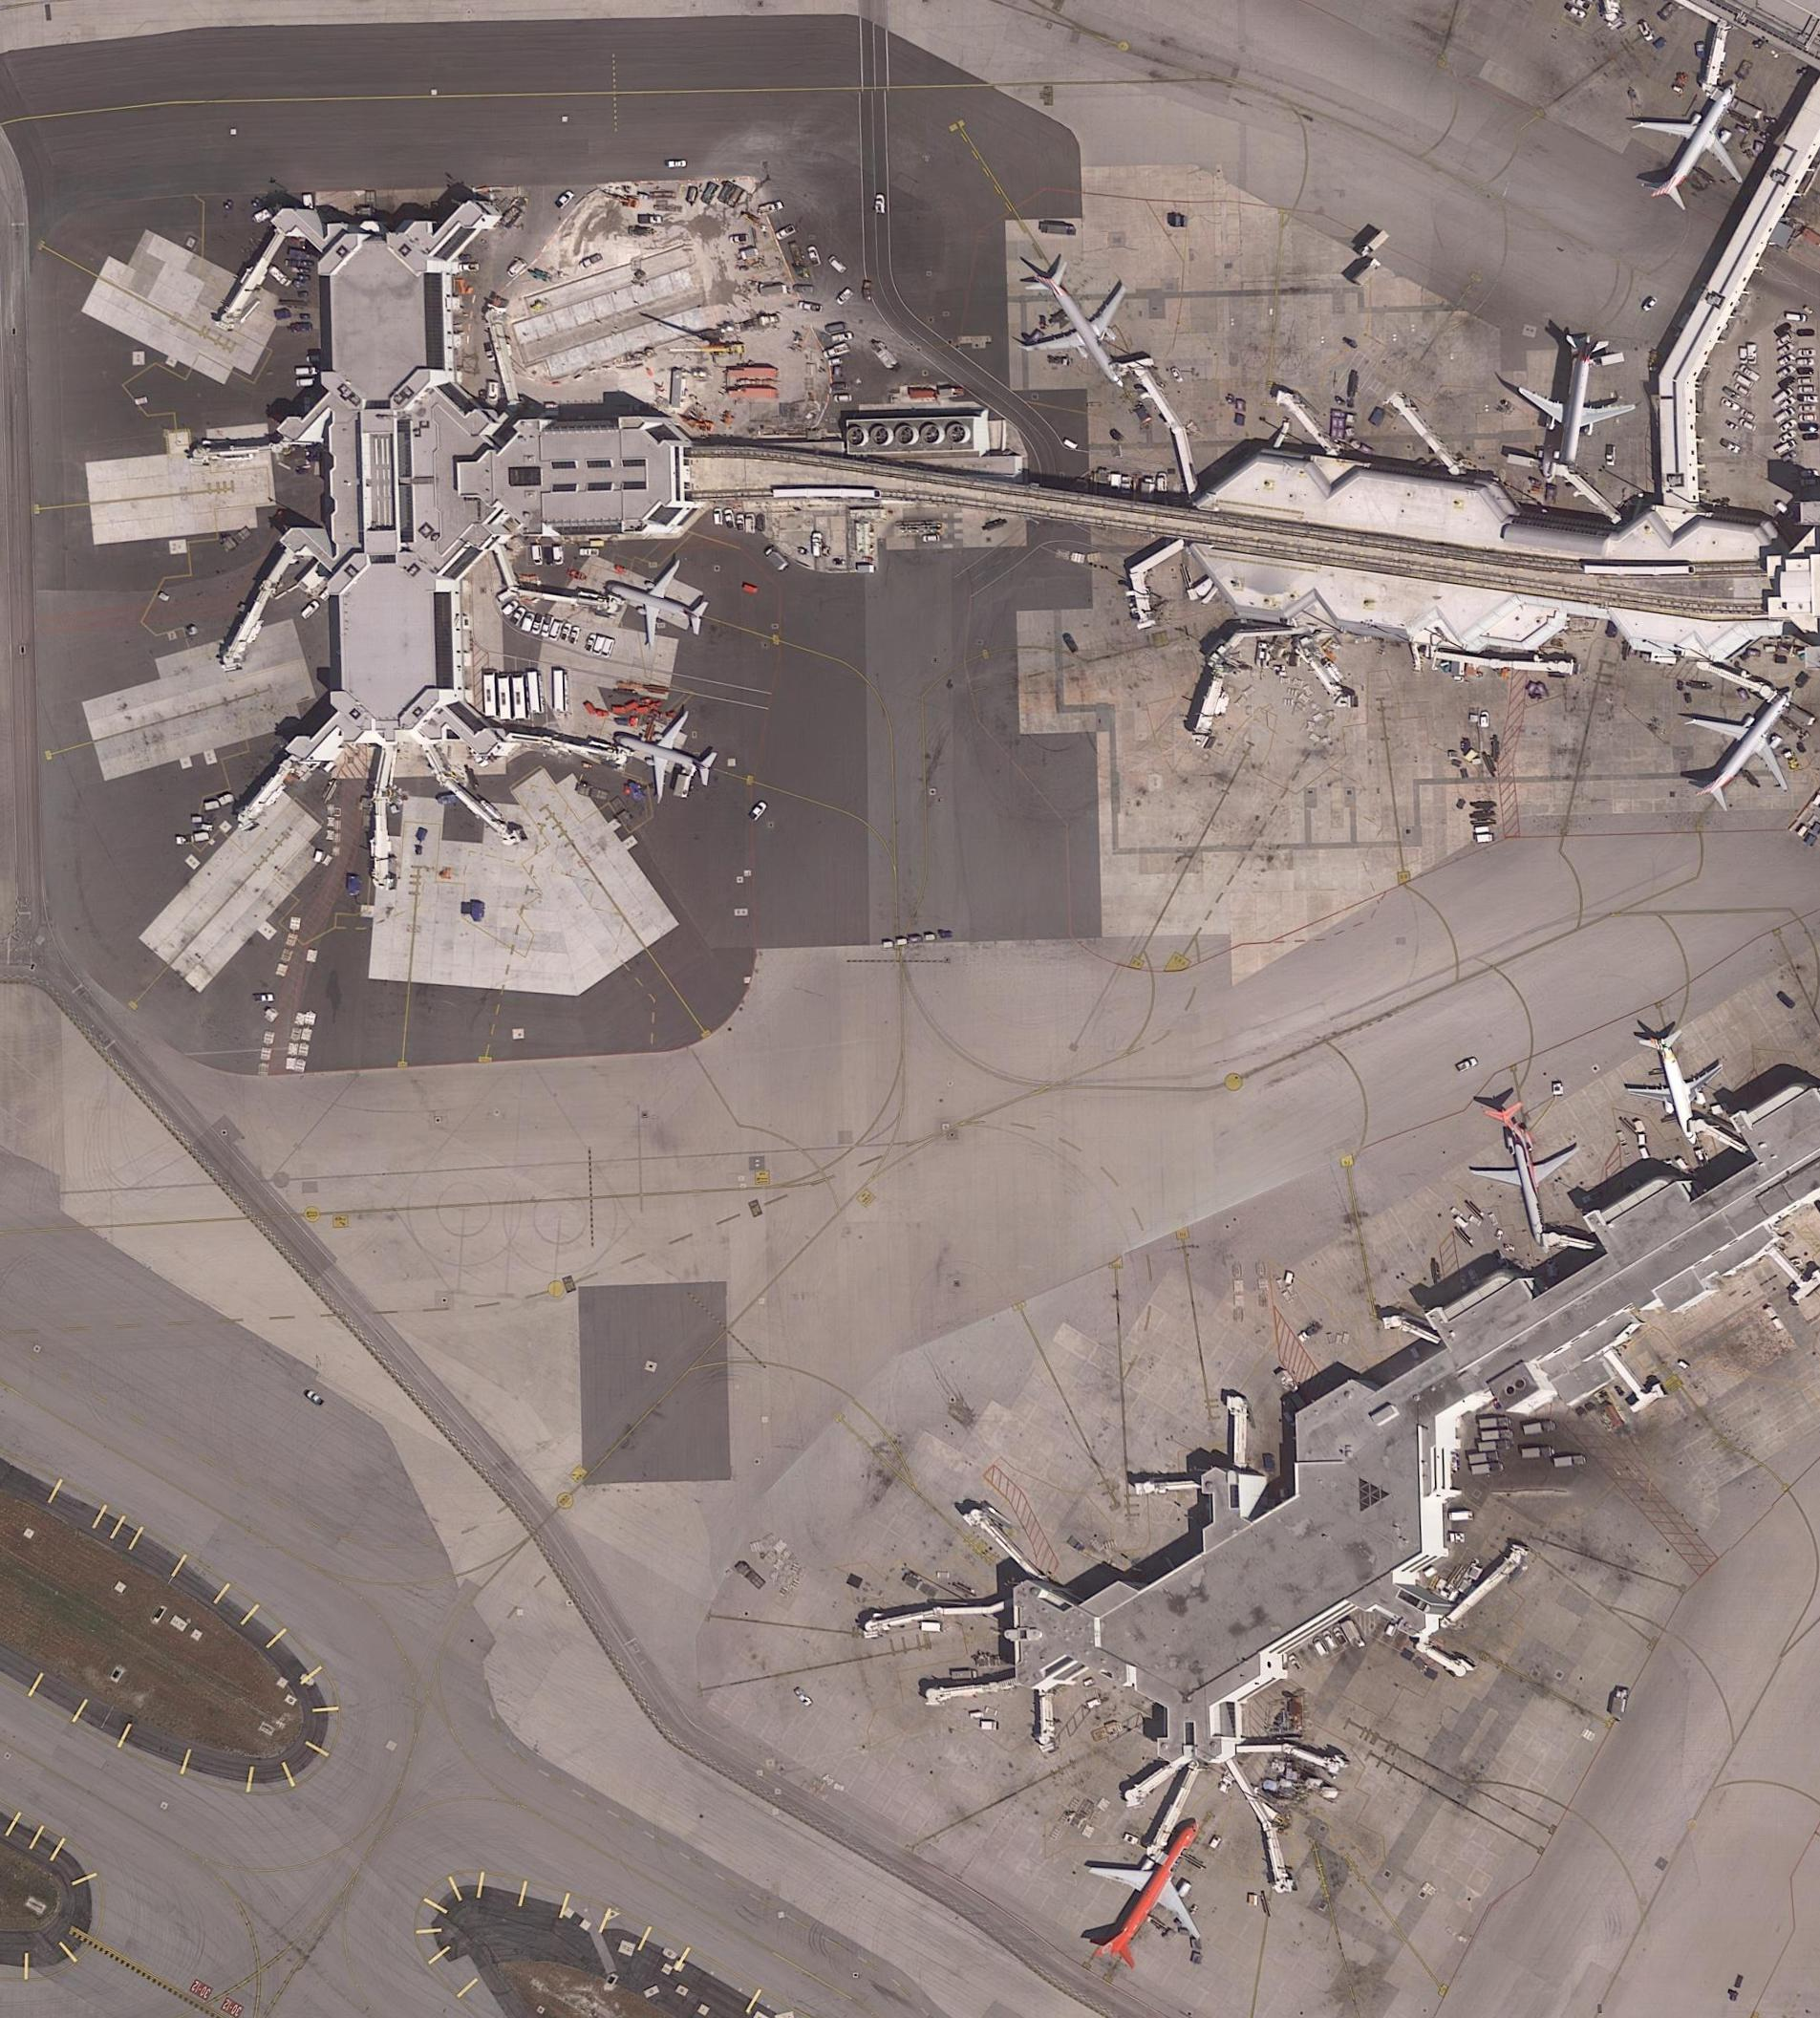plane: (1058, 1781, 1254, 1990), (989, 237, 1168, 423), (1657, 652, 1820, 838), (1611, 53, 1778, 232), (1458, 1089, 1597, 1268), (1504, 320, 1646, 479), (1611, 1017, 1741, 1157), (594, 539, 726, 666), (604, 694, 726, 815)
